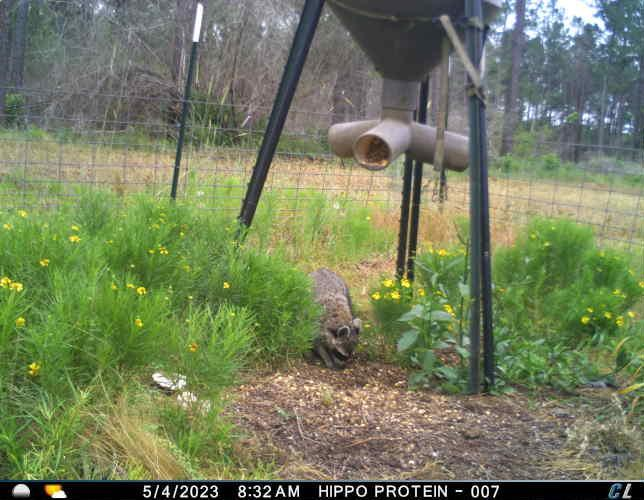Raccoon: (299, 264, 364, 371)
